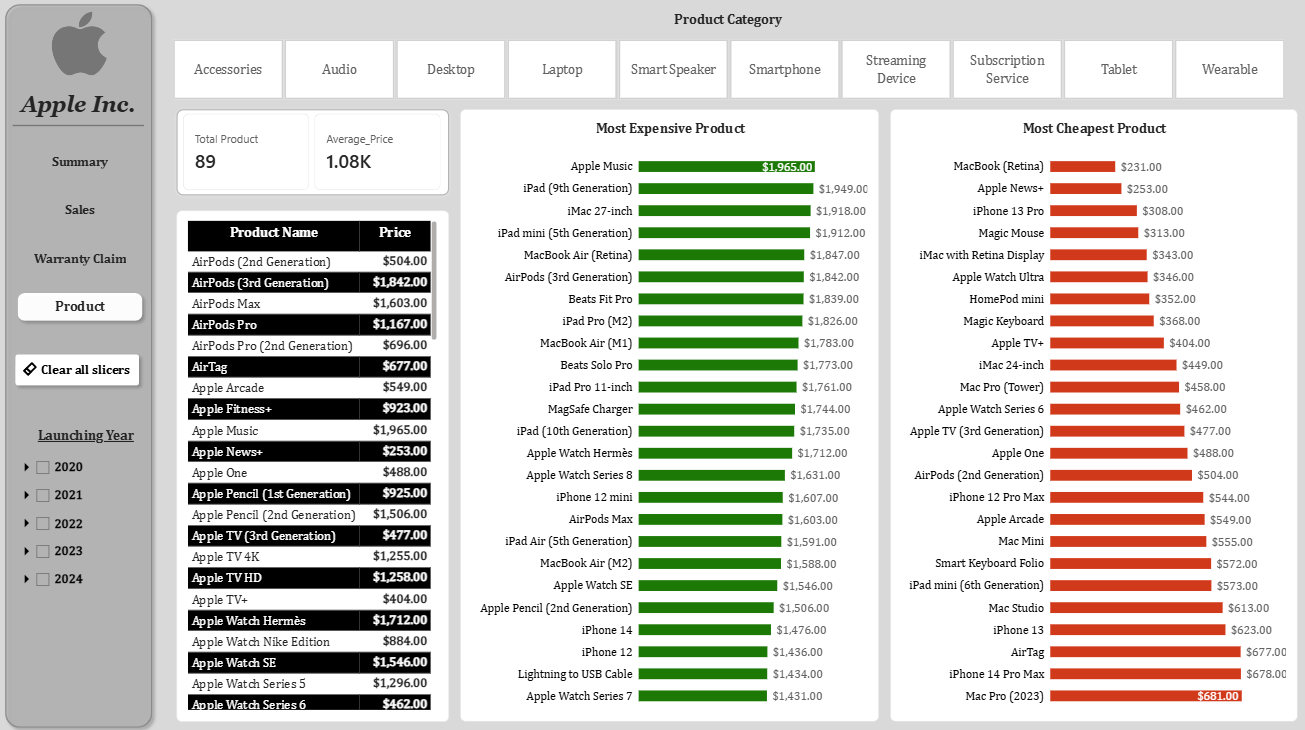

The dashboard page shown, as its layout file describes it:
{"tool":"powerbi","page":{"name":"Product","canvas":[1920,1080],"ordinal":3},"visuals":[{"type":"shape","box":[0,0,234,1080],"z":0,"group":"g2"},{"type":"image","box":[55,18.3,124,106],"z":1000,"group":"g1"},{"type":"cardVisual","title":"Total Sold Qty by Product Category","fields":{"Data":["Calcule_KPI.Total Product","Calcule_KPI.Average_Price"]},"box":[260.5,163.2,399.9,126.6],"z":1000},{"type":"textbox","box":[20,138,192,50],"z":2000,"group":"g2"},{"type":"shape","box":[20.2,179.8,192.6,14.7],"z":3000},{"type":"group","id":"g1","title":"Group 1","box":[0,0,234.8,1080.4],"z":4000},{"type":"slicer","title":"Launching Year","fields":{"Values":["products.Launch_Date.Variation.Date Hierarchy.Year","products.Launch_Date.Variation.Date Hierarchy.Quarter","products.Launch_Date.Variation.Date Hierarchy.Month","products.Launch_Date.Variation.Date Hierarchy.Day"]},"box":[20.2,629.1,214.6,258.6],"z":5000},{"type":"barChart","title":"Most Expensive Product","fields":{"Category":["products.Product_Name"],"Y":["Calcule_KPI.Average_Price"]},"box":[676.8,163.2,614.5,898.8],"z":7000},{"type":"pivotTable","fields":{"Rows":["products.Product_Name"],"Values":["Sum(products.Price)"]},"box":[260.5,311.8,399.9,750.2],"z":9000},{"type":"group","id":"g2","title":"Group 2","box":[0,0,234,1080],"z":9001,"group":"g1"},{"type":"slicer","title":"Product Category","fields":{"Values":["category.category_name"]},"box":[234.8,18.3,1671,132.1],"z":9001},{"type":"barChart","title":"Most Cheapest Product","fields":{"Category":["products.Product_Name"],"Y":["Calcule_KPI.Average_Price"]},"box":[1307.8,163.2,598,898.8],"z":9002},{"type":"pageNavigator","box":[18.3,210.9,201.8,273.3],"z":9003},{"type":"actionButton","box":[14.7,513.6,199.9,64.2],"z":9004}]}

Visuals, with their boxes on the page's 1920x1080 design canvas (x1, y1, x2, y2). These are canvas units, not pixel positions in the 1305x730 screenshot, which may show the page scaled, cropped or inside an application window:
shape: (left=0, top=0, right=234, bottom=1080)
image: (left=55, top=18, right=179, bottom=124)
"Total Sold Qty by Product Category" cardVisual: (left=260, top=163, right=660, bottom=290)
textbox: (left=20, top=138, right=212, bottom=188)
shape: (left=20, top=180, right=213, bottom=194)
"Group 1" group: (left=0, top=0, right=235, bottom=1080)
"Launching Year" slicer: (left=20, top=629, right=235, bottom=888)
"Most Expensive Product" barChart: (left=677, top=163, right=1291, bottom=1062)
pivotTable - products.Product_Name x Sum(products.Price): (left=260, top=312, right=660, bottom=1062)
"Group 2" group: (left=0, top=0, right=234, bottom=1080)
"Product Category" slicer: (left=235, top=18, right=1906, bottom=150)
"Most Cheapest Product" barChart: (left=1308, top=163, right=1906, bottom=1062)
pageNavigator: (left=18, top=211, right=220, bottom=484)
actionButton: (left=15, top=514, right=215, bottom=578)
